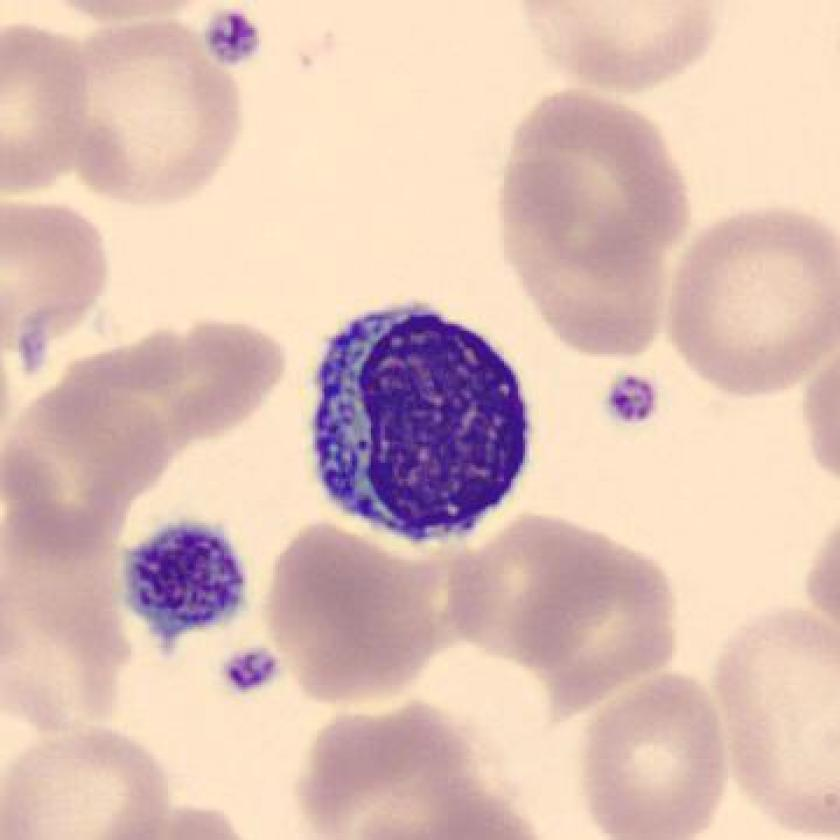lymphocyte: (297, 291, 540, 550)
platelets: (108, 519, 249, 656), (193, 7, 268, 69), (221, 640, 286, 699), (604, 369, 659, 428)
